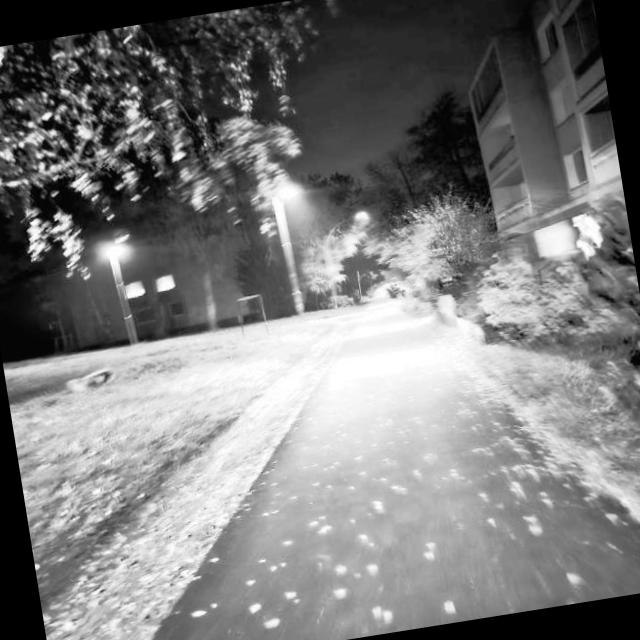Light: (304, 205, 391, 322), (88, 233, 150, 356), (270, 186, 320, 334)
